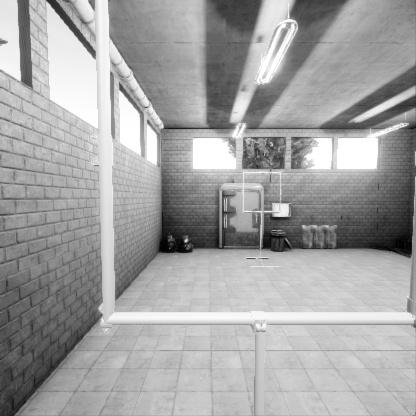gate: (107, 113, 416, 416), (242, 204, 283, 245)
